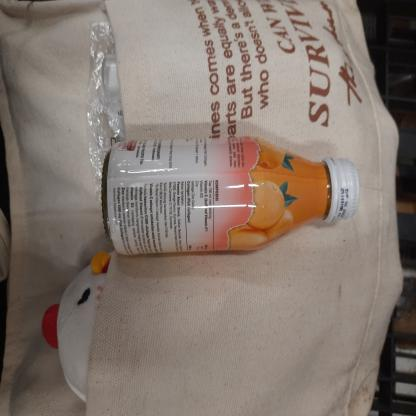glass: (99, 128, 364, 266)
